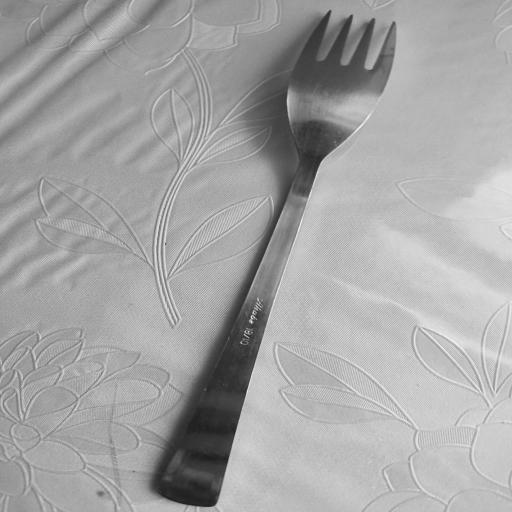fork: (148, 6, 404, 508)
